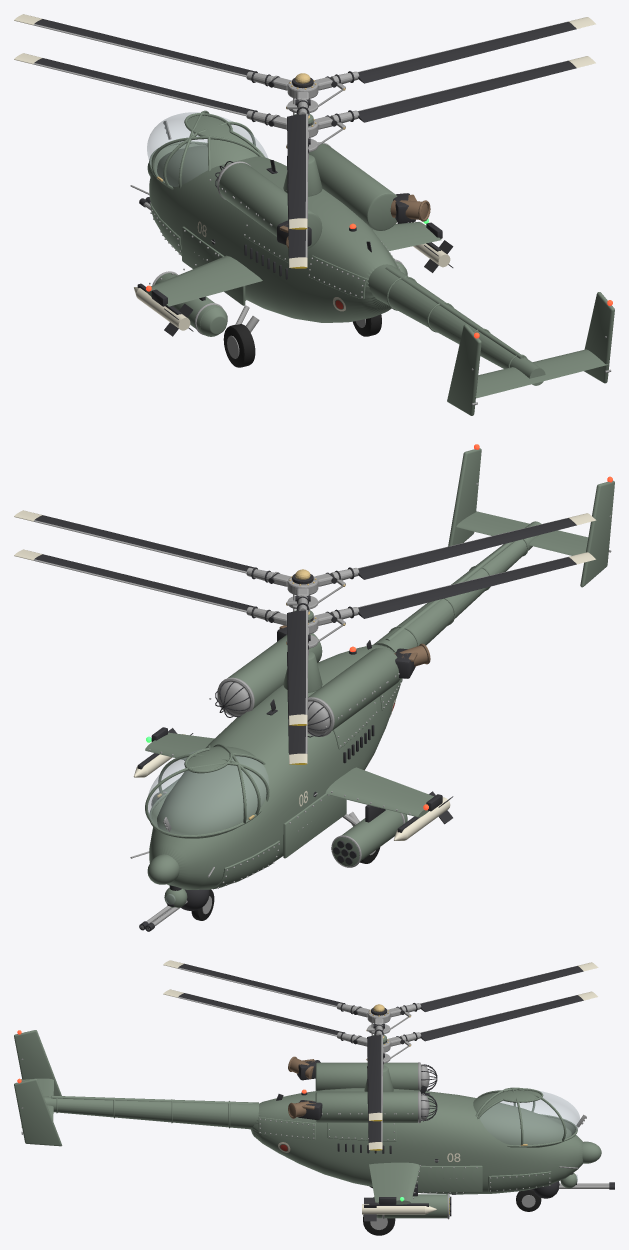
The model's file is striker.glb.
3 renders of one model, top to bottom at view 1: azimuth 30°, elevation 25°; view 2: azimuth 150°, elevation 25°; view 3: azimuth 270°, elevation 25°, orthographic. The views are drawn at different scales.
Visible parts, largest first — view 1: body, rotor_upper, rotor; view 2: body, rotor_upper, rotor; view 3: body, rotor_upper, rotor.
Boxes of the visible parts, x1,y1,x2,y2 form: body: [130, 98, 614, 415]; rotor_upper: [14, 14, 595, 229]; rotor: [14, 53, 595, 268]; body: [130, 444, 614, 931]; rotor_upper: [14, 510, 596, 725]; rotor: [14, 549, 595, 764]; body: [14, 1023, 614, 1235]; rotor_upper: [163, 960, 598, 1121]; rotor: [163, 989, 597, 1150].
Size of the model in its own units: 6.61 by 3.95 by 10.45.
